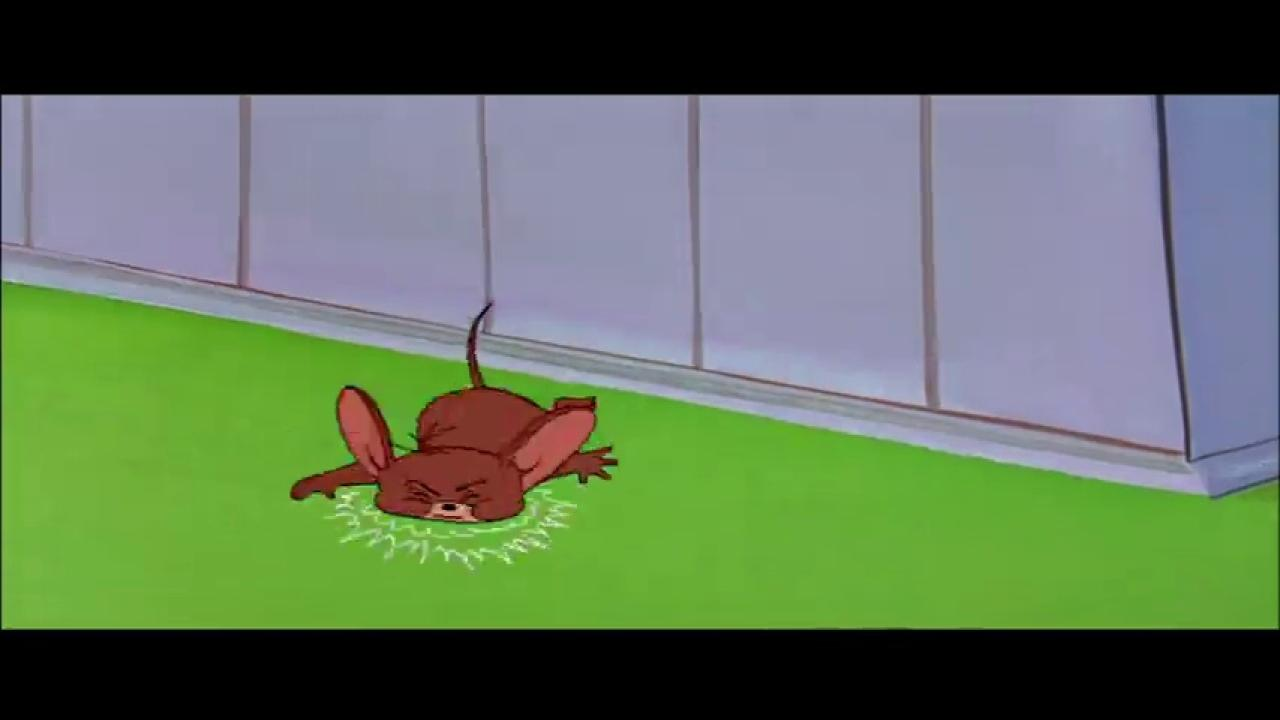Jerry: (290, 300, 619, 524)
